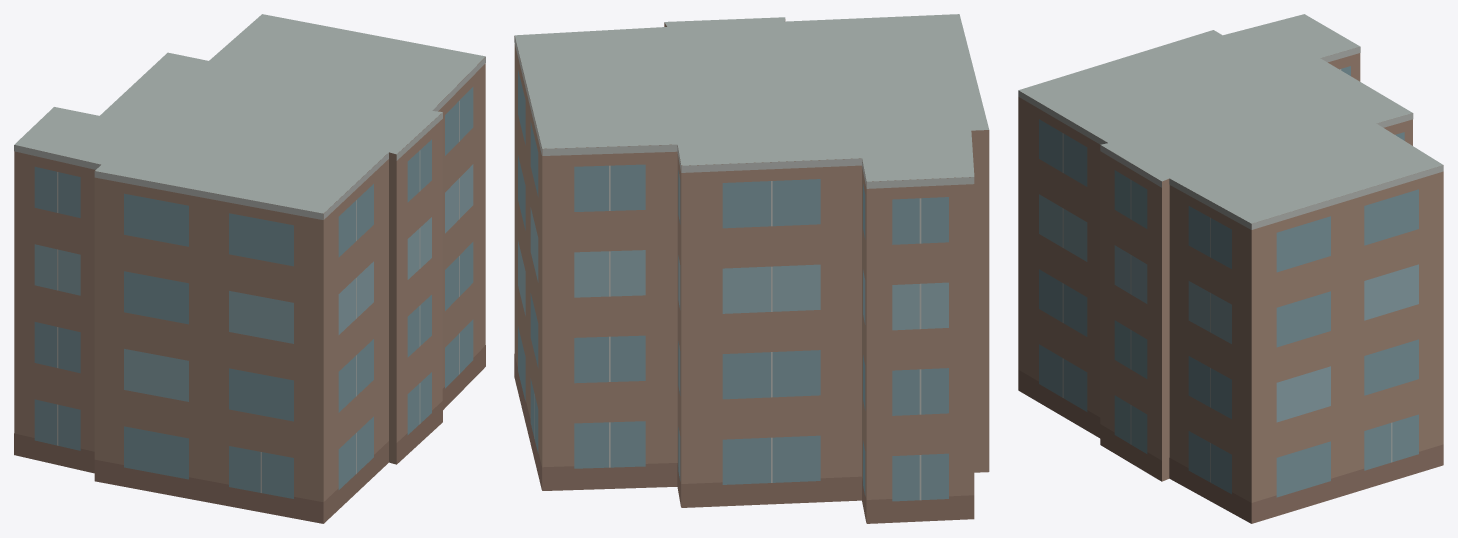
File: survey-upis-32955963.glb
3 renders of one model, left to right at view 1: azimuth 30°, elevation 25°; view 2: azimuth 150°, elevation 25°; view 3: azimuth 270°, elevation 25°, orthographic. The views are drawn at different scales.
Visible parts, largest first — view 1: survey-upis-32955963.tmp; view 2: survey-upis-32955963.tmp; view 3: survey-upis-32955963.tmp.
Part boxes in pixels (x1,y1,x2,y2): survey-upis-32955963.tmp: (14,14,485,523); survey-upis-32955963.tmp: (514,14,989,523); survey-upis-32955963.tmp: (1018,14,1443,523).
Size of the model in its own units: 17.32 by 11.55 by 14.84.
